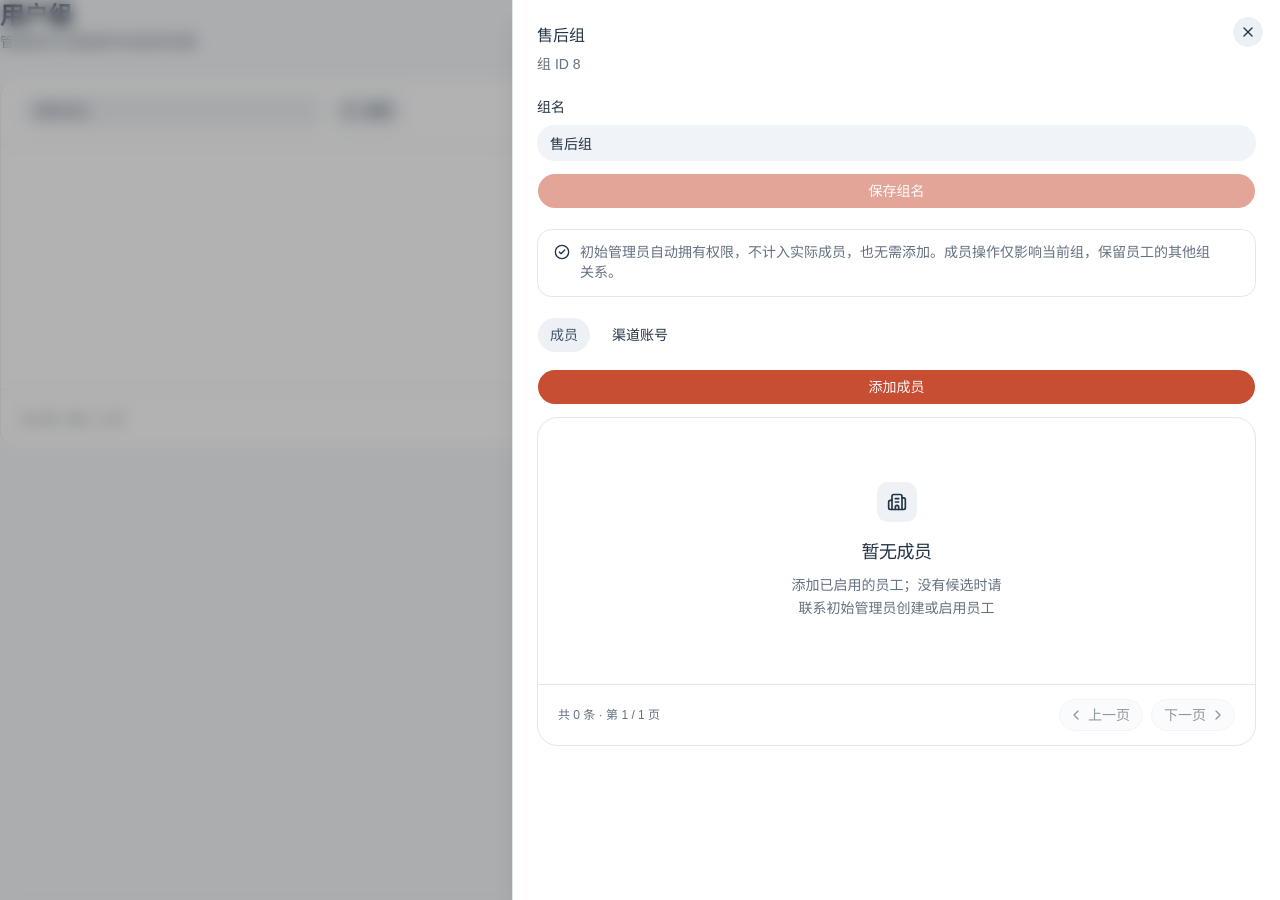
Test: 用户组页面操作 › 组详情提供可识别的页签并切换到渠道账号
This screenshot has width=1280, height=900.
Step 1. Click the tab "渠道账号" → {"x": 640, "y": 335}, box [599,317,681,353]
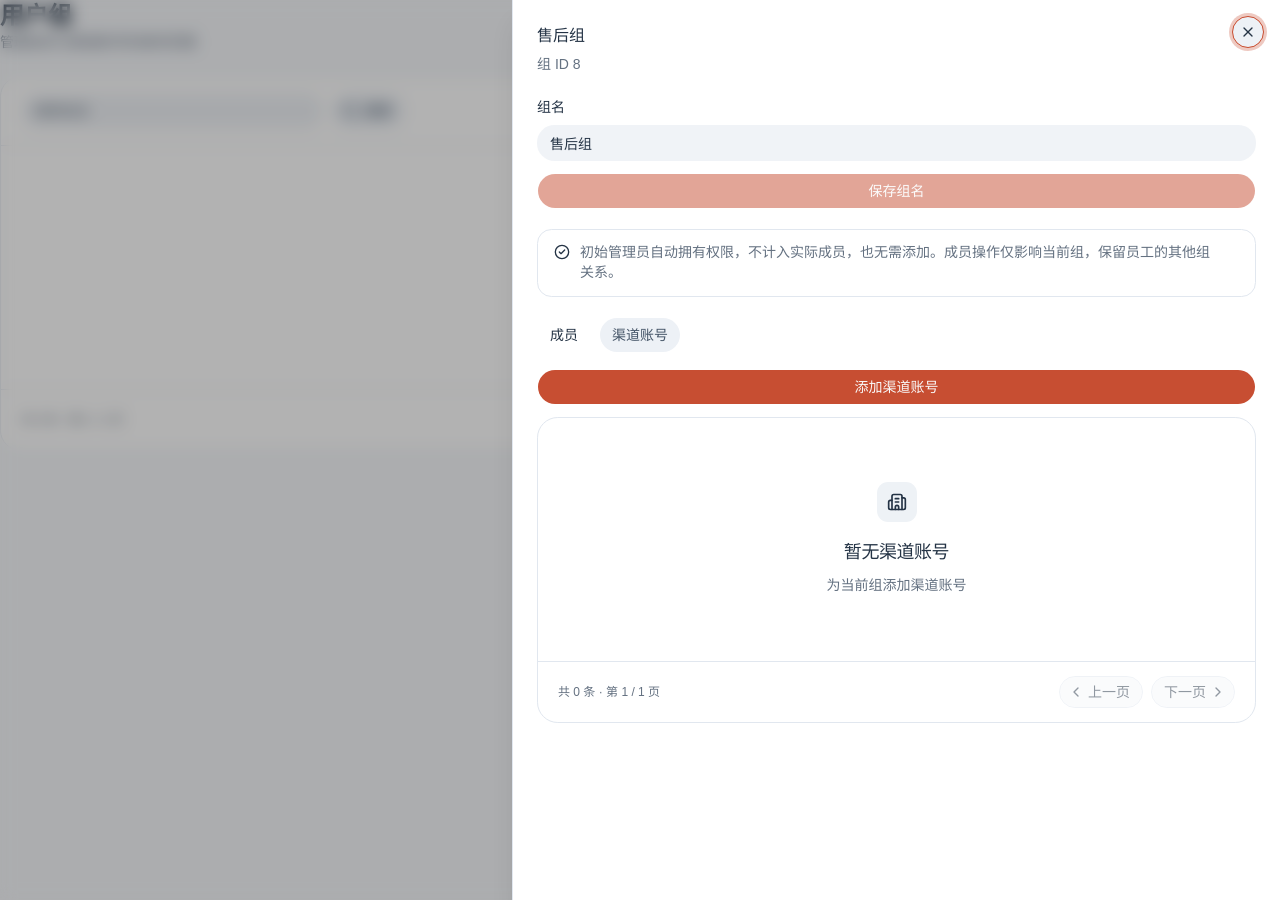
Expected: the panel "渠道账号" is shown, [537,369,1256,723]
Expected: the button "添加渠道账号" is shown, [537,369,1256,405]
